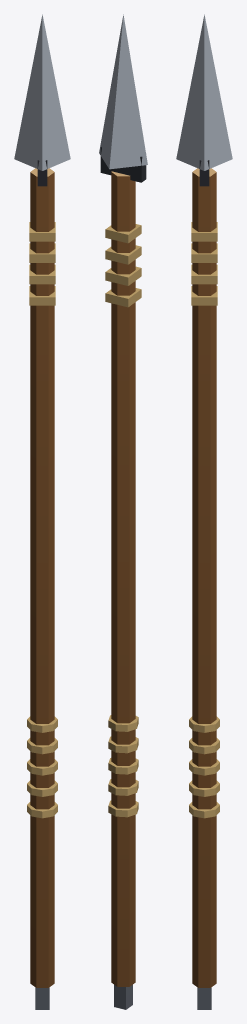
Rendered from item_spear.glb.
The picture shows the model from 3 angles, left to right: view 1: azimuth 90°, elevation 25°; view 2: azimuth 150°, elevation 25°; view 3: azimuth 270°, elevation 25°; orthographic projection.
Parts seen in each view (by area): view 1: item_spear, item_spear_detail; view 2: item_spear, item_spear_detail; view 3: item_spear, item_spear_detail.
Boxes of the visible parts, bbox=[...] form: item_spear: bbox=[14, 14, 70, 1009]; item_spear_detail: bbox=[27, 716, 57, 818]; item_spear: bbox=[99, 14, 147, 1009]; item_spear_detail: bbox=[108, 715, 138, 817]; item_spear: bbox=[176, 14, 232, 1009]; item_spear_detail: bbox=[189, 716, 219, 818].
Bounding box in the file's own units: 0.12 × 2.32 × 0.12.
